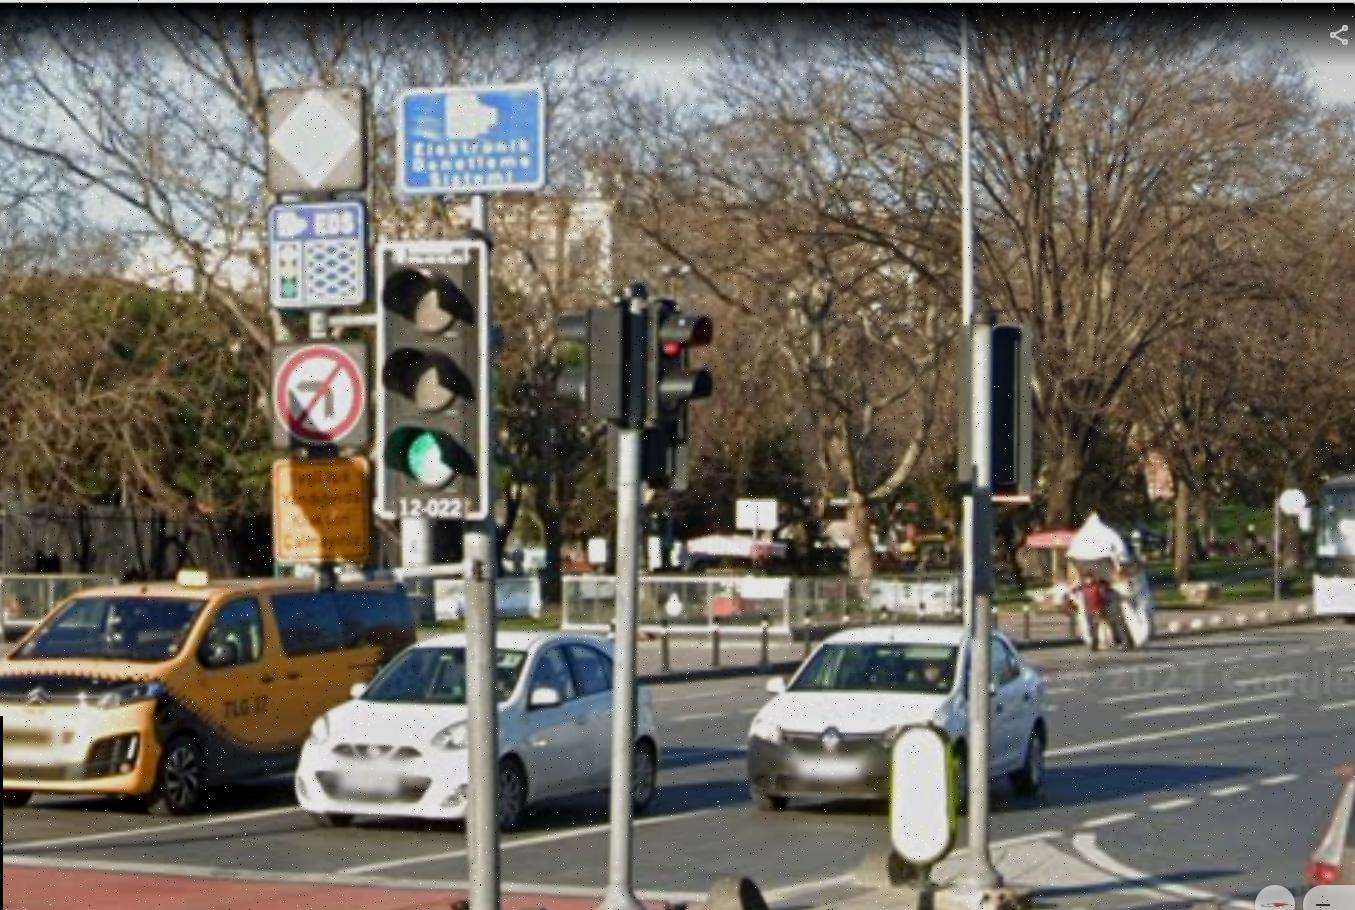greenlight: (374, 247, 482, 495)
leftturnsareforbidden: (272, 344, 371, 449)
